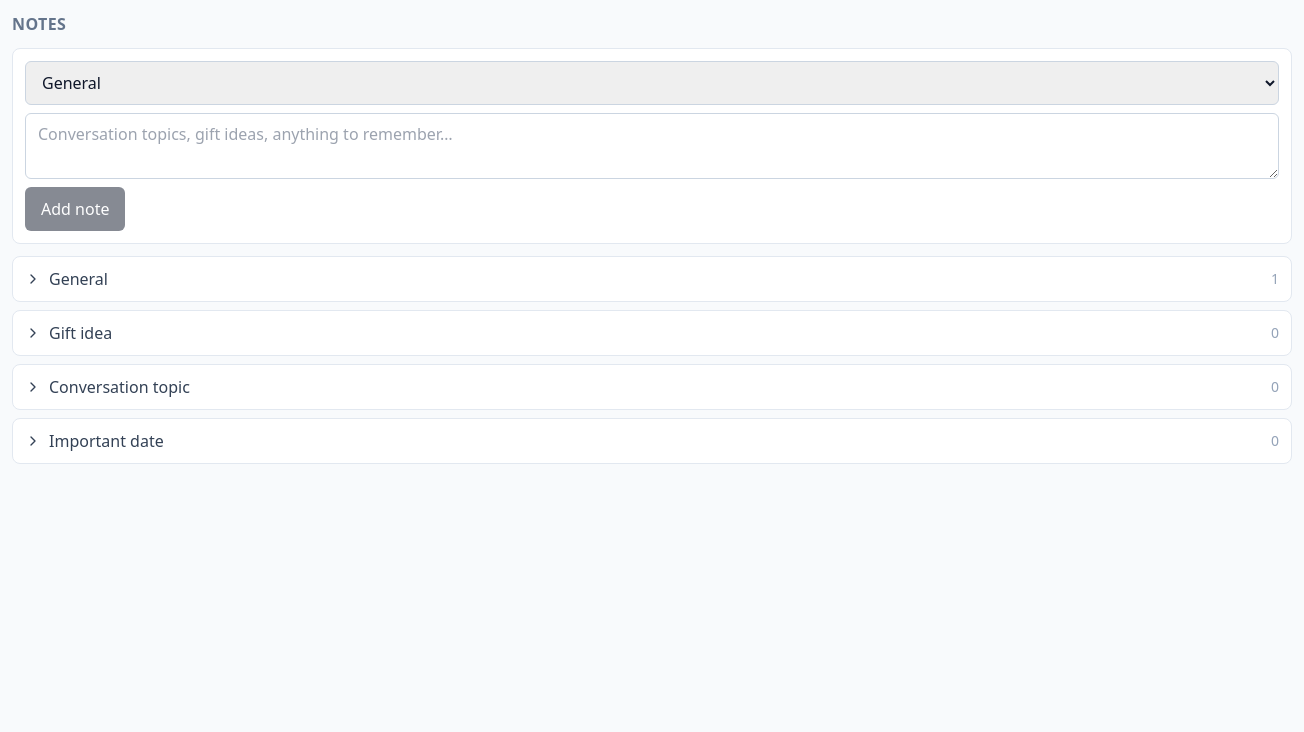
Test: EntityNotes › shows a delete confirmation before removing a note
This screenshot has width=1304, height=732.
Click the button "General 1": (78, 279) left=13, top=257, right=1291, bottom=301
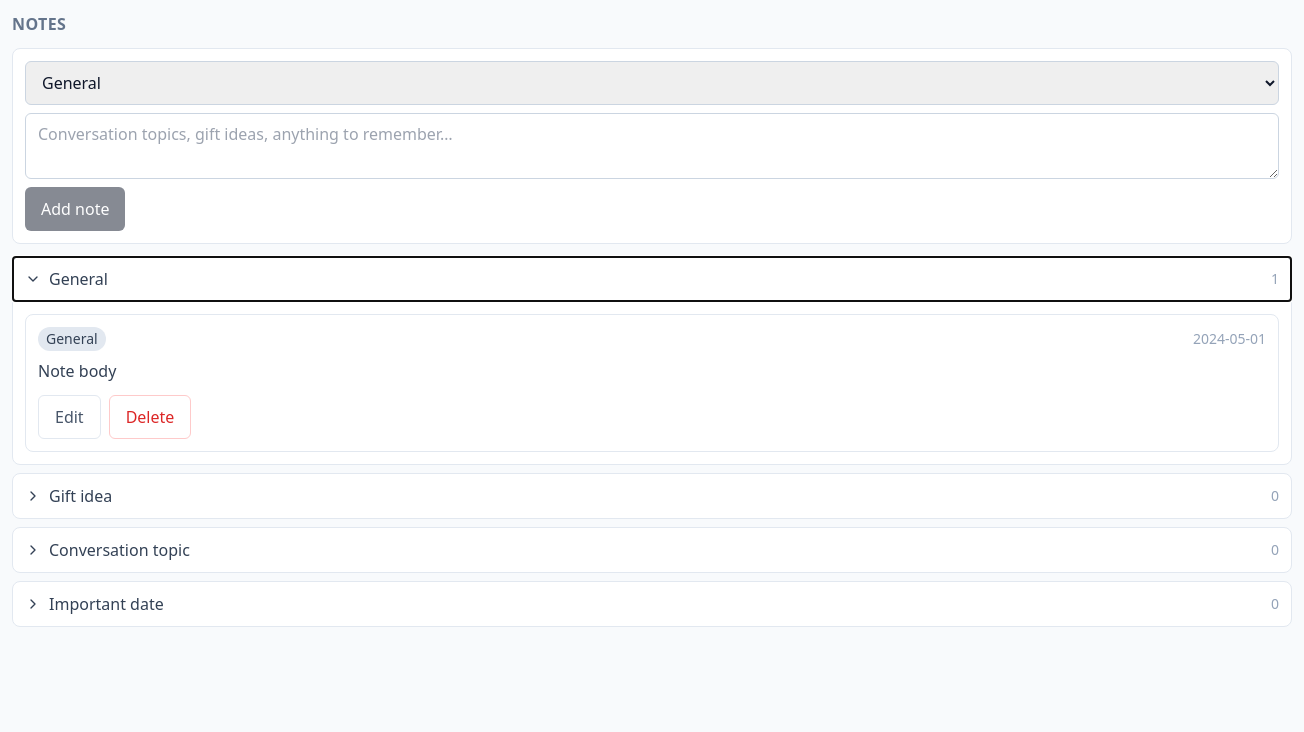
Expected: the text "Note body" is shown, left=38, top=360, right=116, bottom=382
Click the button "Delete": (150, 417) left=109, top=395, right=191, bottom=439
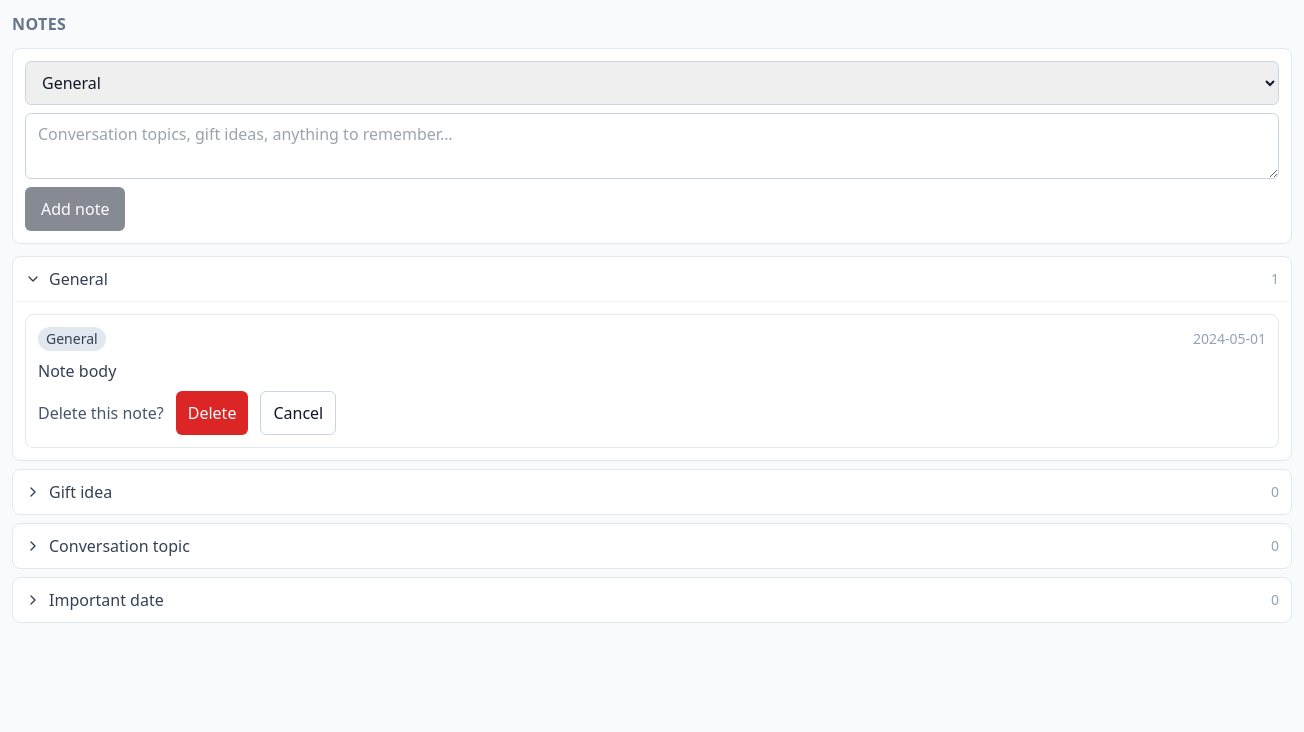
Expected: the text "Delete this note?" is shown, left=38, top=401, right=164, bottom=425
